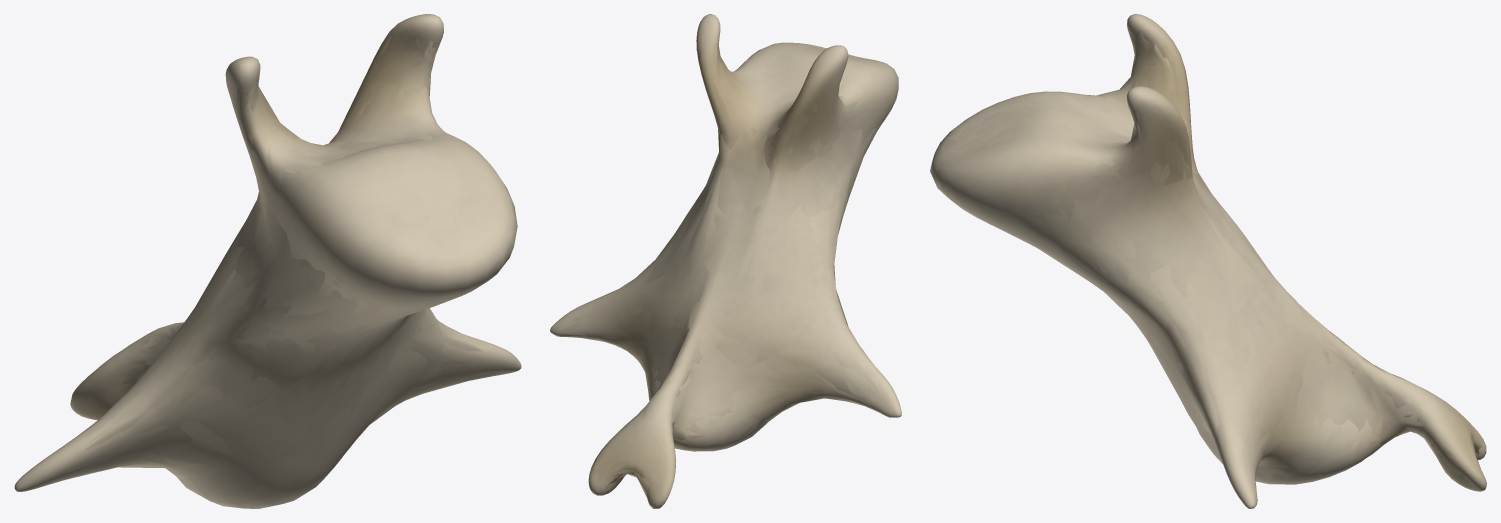
Rendered from vertebrae caudales 05.fbx.
3 renders of one model, left to right at view 1: azimuth 30°, elevation 25°; view 2: azimuth 150°, elevation 25°; view 3: azimuth 270°, elevation 25°, orthographic. The views are drawn at different scales.
Parts seen in each view (by area): view 1: vertebrae caudales 05, vertebrae caudales 05 high, vertebrae caudales 05 low; view 2: vertebrae caudales 05, vertebrae caudales 05 high, vertebrae caudales 05 low; view 3: vertebrae caudales 05, vertebrae caudales 05 low, vertebrae caudales 05 high.
Boxes of the visible parts, x1,y1,x2,y2 form: vertebrae caudales 05: (15,16,517,508); vertebrae caudales 05 high: (14,14,521,507); vertebrae caudales 05 low: (68,47,482,479); vertebrae caudales 05: (550,16,901,508); vertebrae caudales 05 high: (550,14,901,507); vertebrae caudales 05 low: (579,47,881,497); vertebrae caudales 05: (930,15,1486,508); vertebrae caudales 05 low: (954,45,1481,479); vertebrae caudales 05 high: (932,14,1486,508).
Size of the model in its own units: 5.12 by 5.08 by 6.05.
